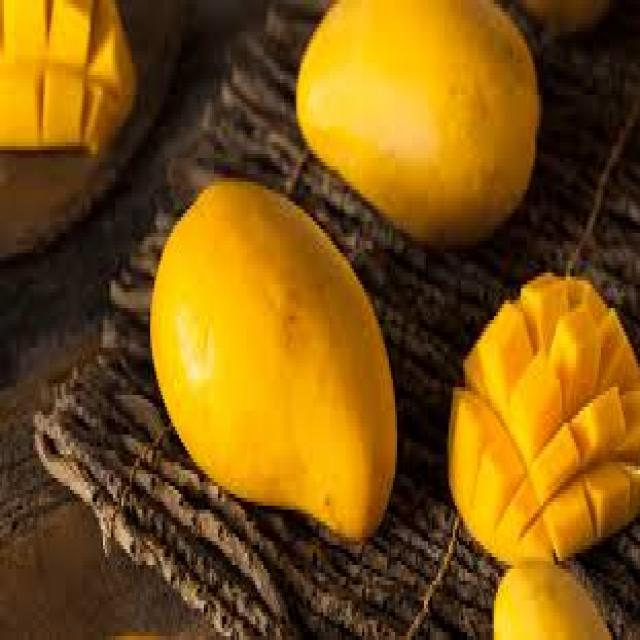mango: (150, 182, 399, 545)
